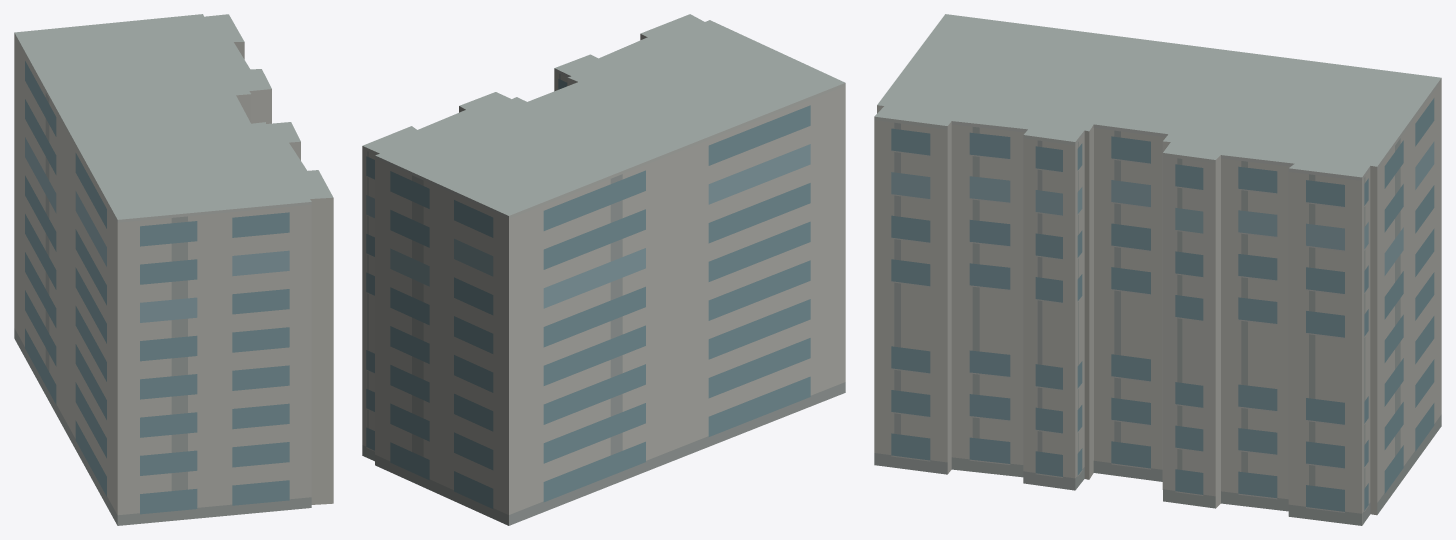
The model's file is survey-upis-32860483.glb.
The picture shows the model from 3 angles, left to right: view 1: azimuth 30°, elevation 25°; view 2: azimuth 150°, elevation 25°; view 3: azimuth 270°, elevation 25°; orthographic projection. The views are drawn at different scales.
Parts seen in each view (by area): view 1: survey-upis-32860483.tmp; view 2: survey-upis-32860483.tmp; view 3: survey-upis-32860483.tmp.
Part boxes in pixels (x1,y1,x2,y2): survey-upis-32860483.tmp: (14,14,333,525); survey-upis-32860483.tmp: (362,14,845,525); survey-upis-32860483.tmp: (874,14,1441,525).
Bounding box in the file's own units: 24.55 × 24.4 × 36.01.
